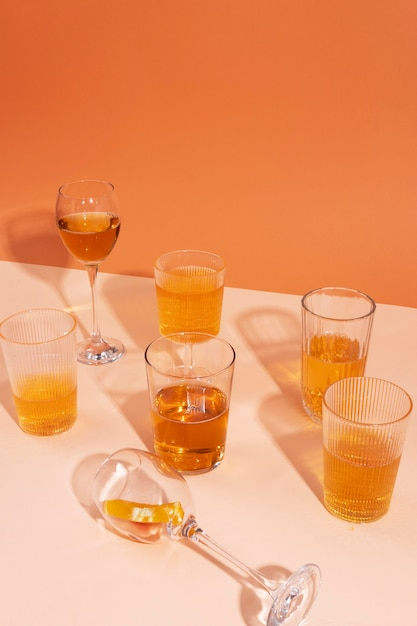alcohol: (89, 448, 322, 626), (320, 374, 412, 522), (54, 182, 123, 366), (142, 334, 230, 472), (300, 282, 376, 423), (2, 311, 81, 436), (152, 248, 230, 347)
